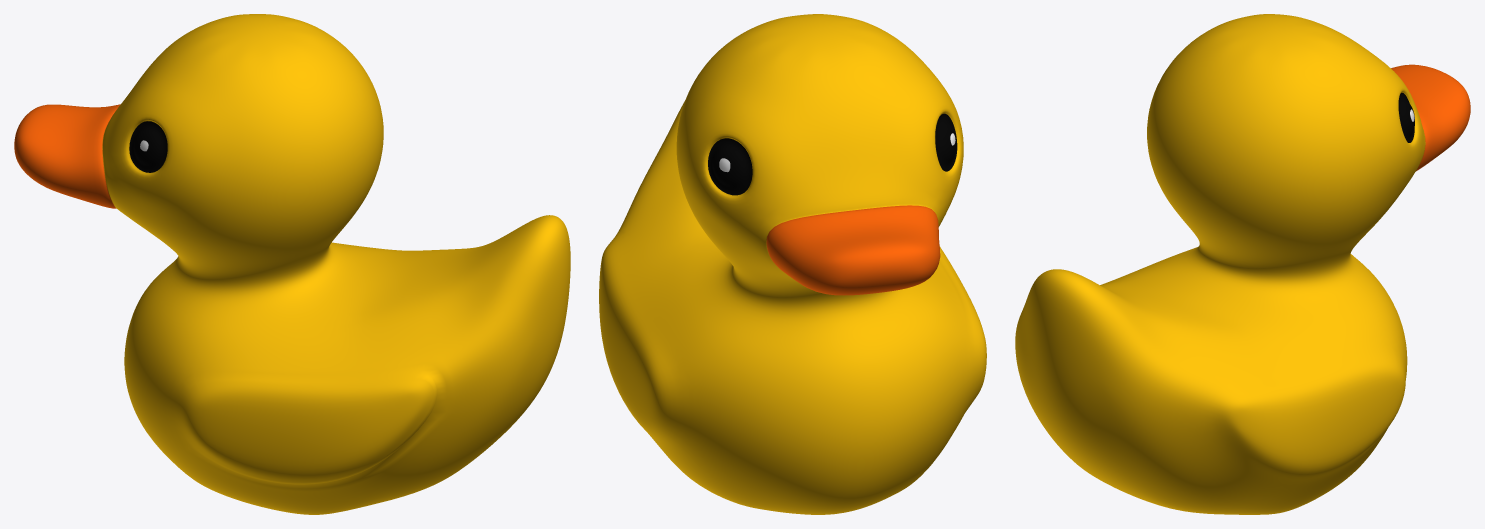
The model's file is ducky.glb.
3 views of the same model, side by side, from view 1: azimuth 30°, elevation 25°; view 2: azimuth 150°, elevation 25°; view 3: azimuth 270°, elevation 25° (orthographic). The views are drawn at different scales.
Visible parts, largest first — view 1: Duck; view 2: Duck; view 3: Duck.
Boxes of the visible parts, x1,y1,x2,y2 form: Duck: (14,14,570,514); Duck: (599,14,986,514); Duck: (1015,14,1470,514).
Size of the model in its own units: 0.5087 by 0.5413 by 0.5087.
